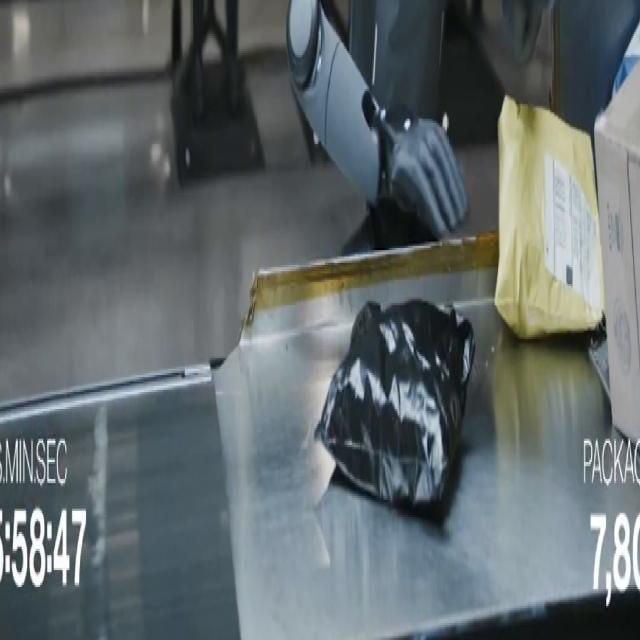package: (315, 301, 475, 506), (495, 98, 603, 339), (595, 66, 639, 438), (612, 24, 639, 97)
